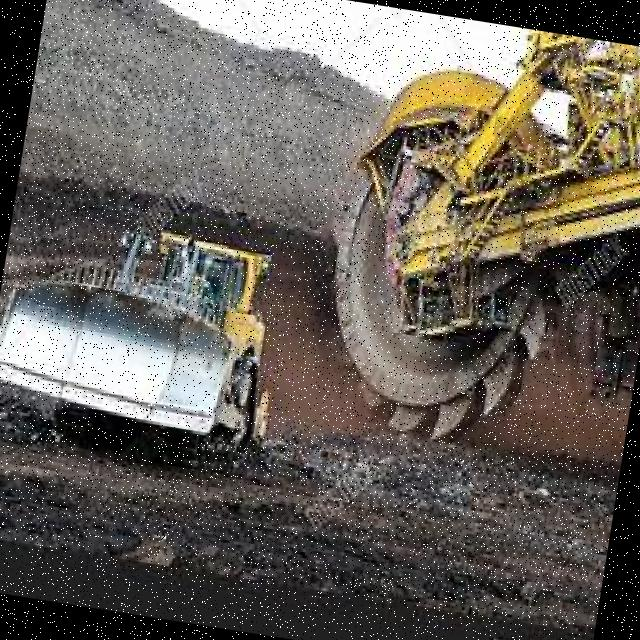Bulldozer: (0, 193, 301, 495)
